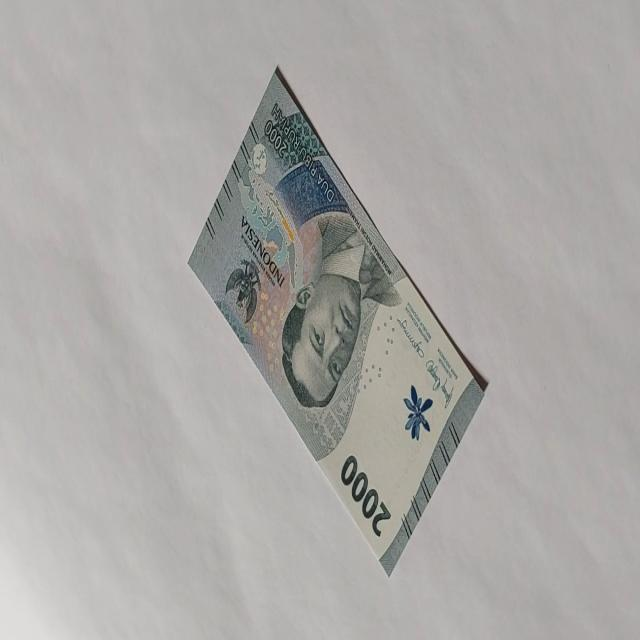dua ribu rupiah: (187, 63, 489, 577), (280, 210, 402, 410)
